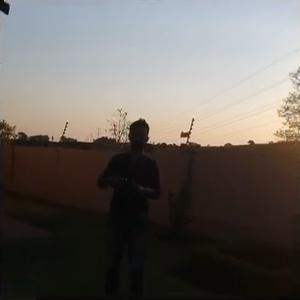follow: (86, 113, 166, 296)
